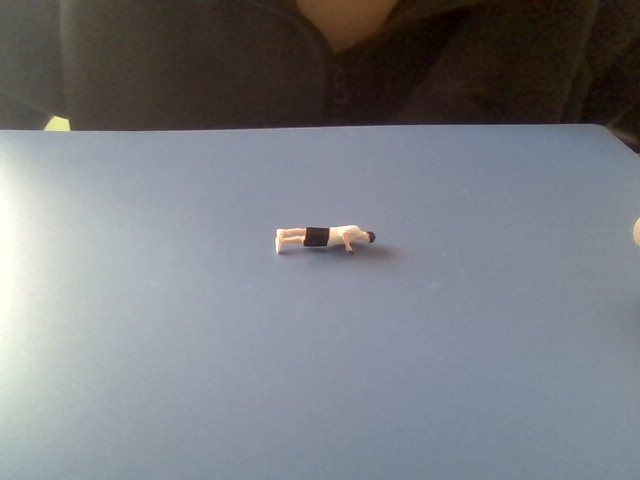fall: (268, 219, 378, 263)
